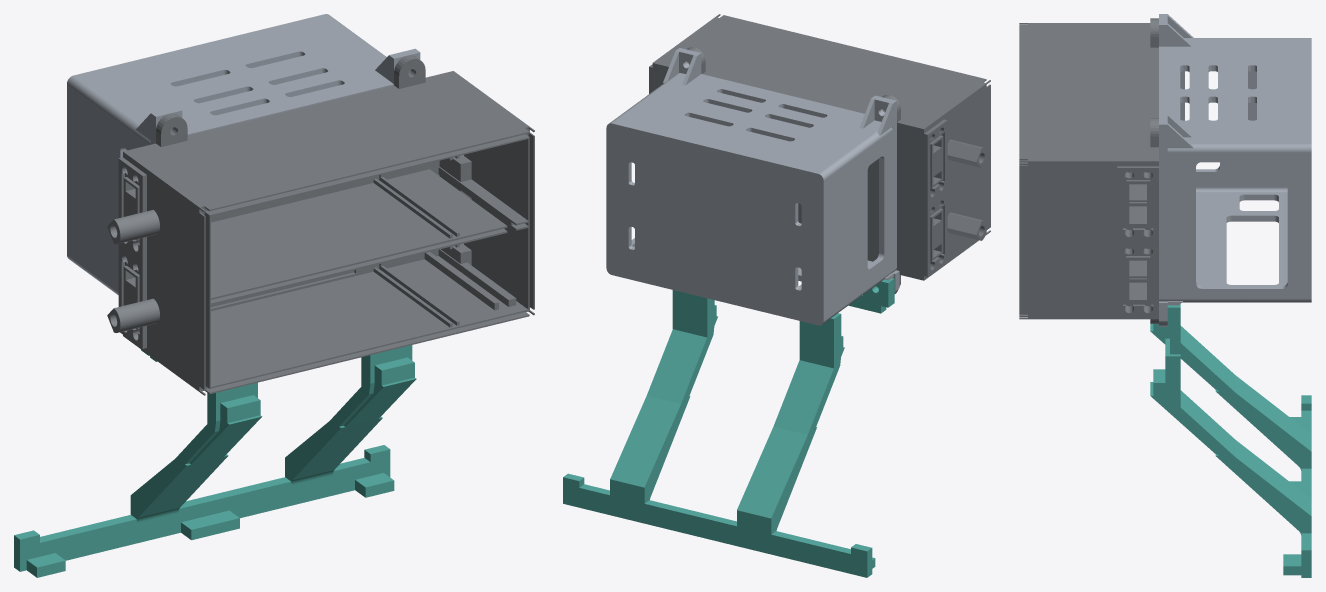
Rendered from assembly.glb.
The picture shows the model from 3 angles, left to right: view 1: azimuth 30°, elevation 25°; view 2: azimuth 150°, elevation 25°; view 3: azimuth 270°, elevation 25°; orthographic projection. The views are drawn at different scales.
Visible parts, largest first — view 1: chamber, pi, stand; view 2: pi, chamber, stand; view 3: chamber, pi, stand.
Part boxes in pixels (left/top/right/bottom): chamber: left=107, top=55, right=534, bottom=395; pi: left=67, top=14, right=420, bottom=295; stand: left=14, top=345, right=416, bottom=577; pi: left=606, top=48, right=899, bottom=325; chamber: left=649, top=14, right=990, bottom=285; stand: left=563, top=278, right=894, bottom=577; chamber: left=1019, top=18, right=1158, bottom=323; pi: left=1159, top=14, right=1311, bottom=326; stand: left=1150, top=304, right=1311, bottom=577.
Bounding box in the file's own units: 177 × 218 × 134.
